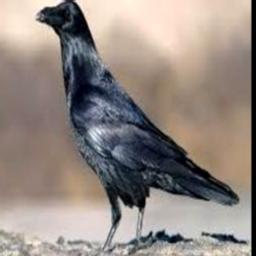Crow: (35, 0, 240, 250)
